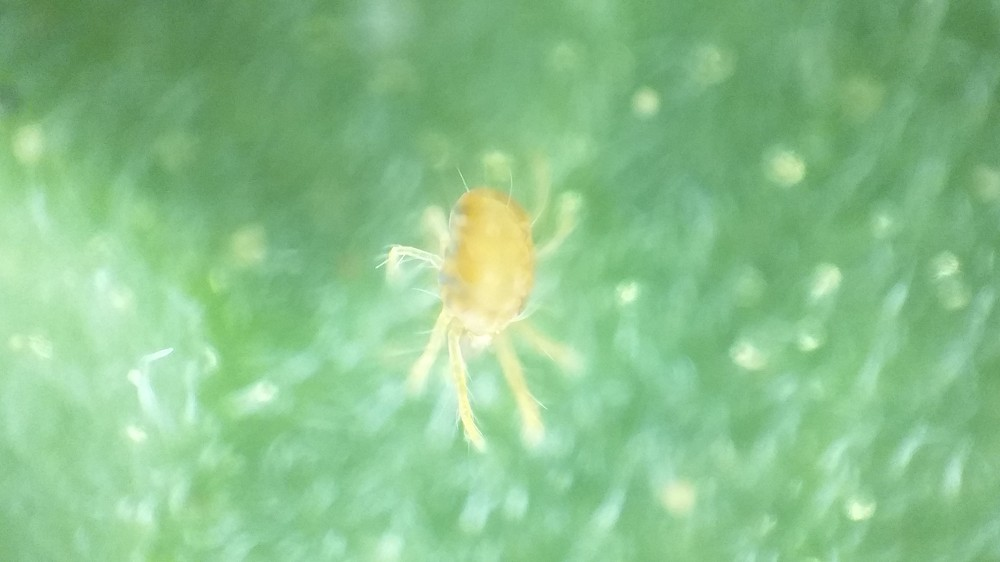Aracnido Rojo: (388, 177, 611, 468)
